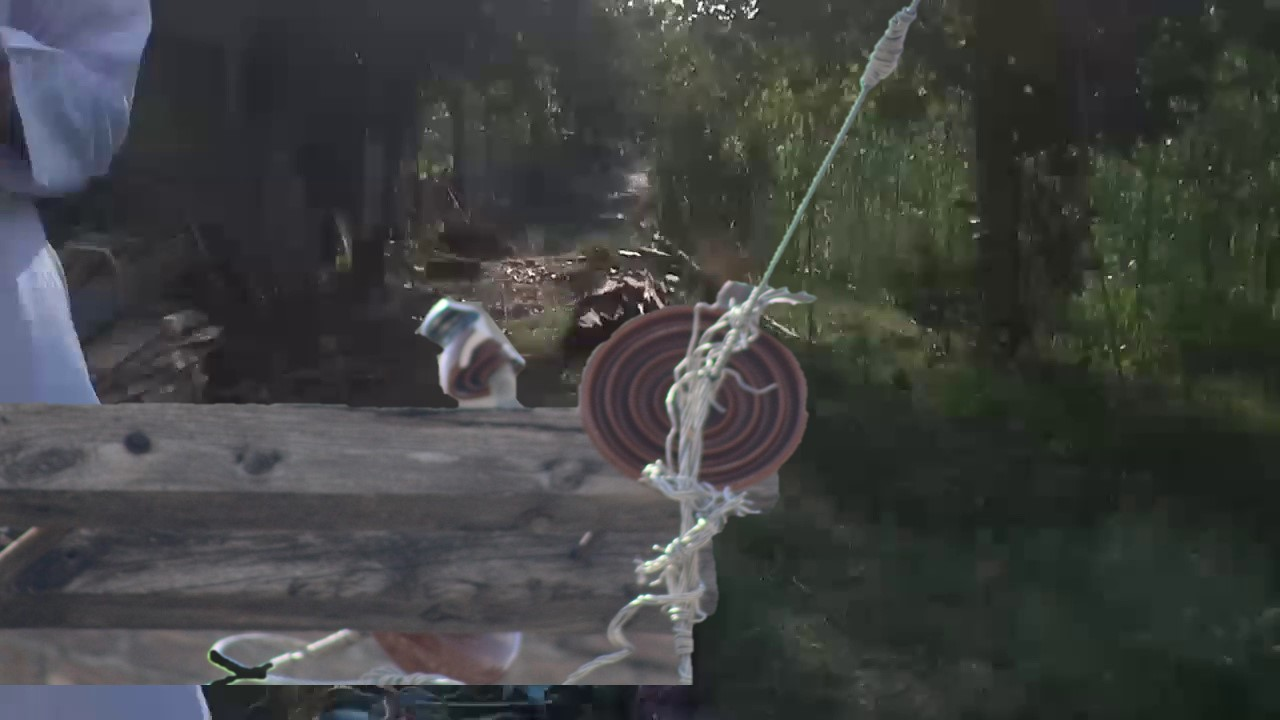defect_pin: (411, 287, 530, 412)
insulator_disc: (576, 301, 816, 500)
